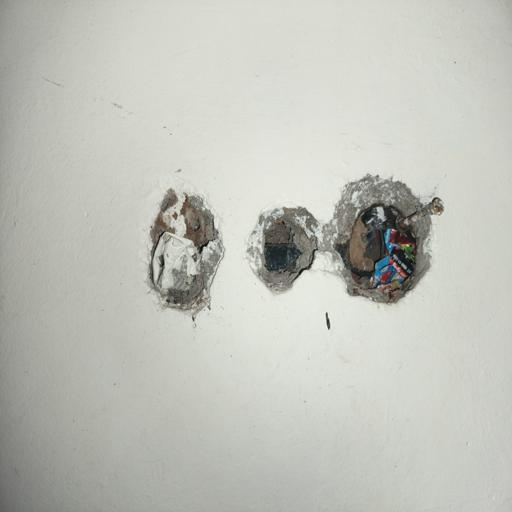spalling: (332, 156, 451, 327), (126, 164, 227, 336), (234, 184, 325, 319)
